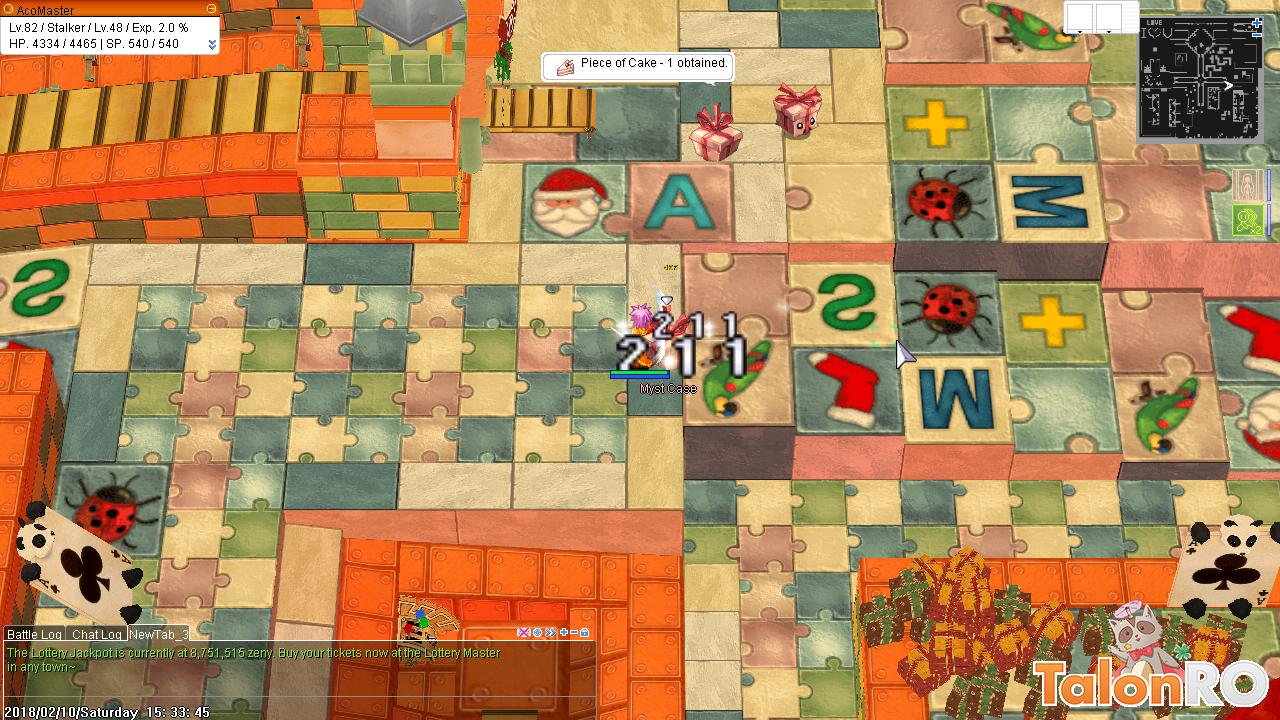myst_case: (690, 103, 750, 166), (769, 79, 825, 143)
